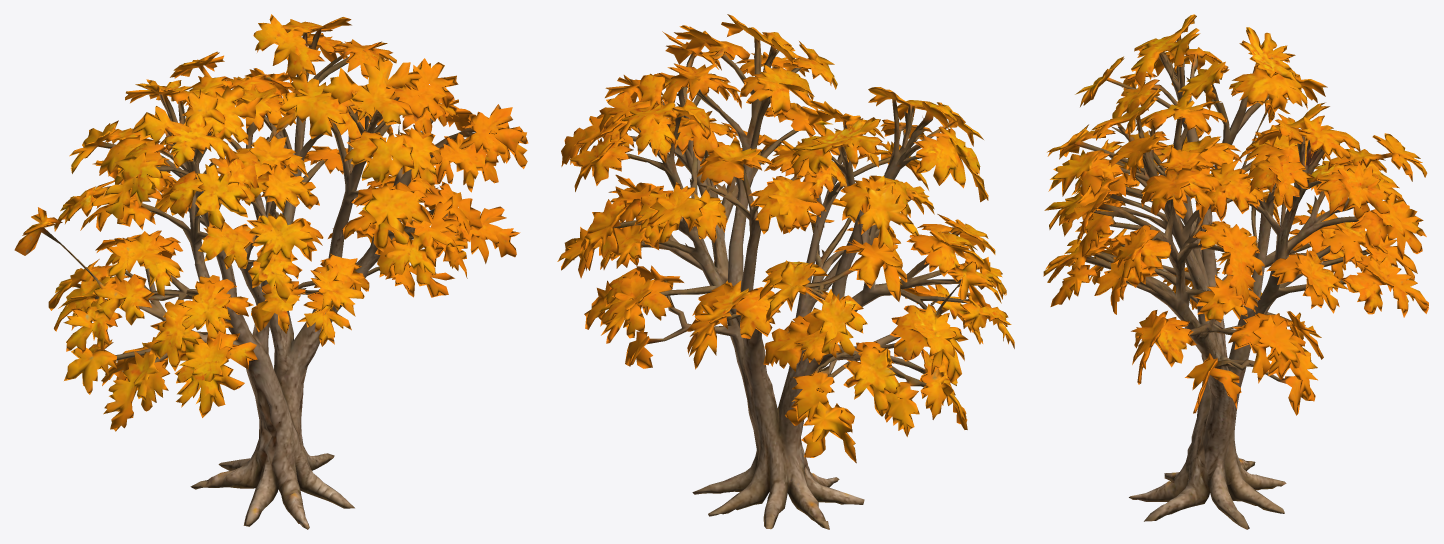
File: 15_金黄色分枝树_2048.fbx
3 views of the same model, side by side, from view 1: azimuth 30°, elevation 25°; view 2: azimuth 150°, elevation 25°; view 3: azimuth 270°, elevation 25° (orthographic).
Parts seen in each view (by area): view 1: tripo_node_ec0d9f87; view 2: tripo_node_ec0d9f87; view 3: tripo_node_ec0d9f87.
Part boxes in pixels (x1,y1,x2,y2): tripo_node_ec0d9f87: (14,14,528,529); tripo_node_ec0d9f87: (557,14,1014,529); tripo_node_ec0d9f87: (1043,14,1428,529).
Bounding box in the file's own units: 0.9808 × 0.9313 × 0.7389.
